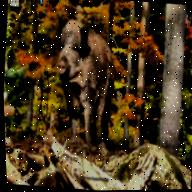boar: (43, 6, 128, 154)
